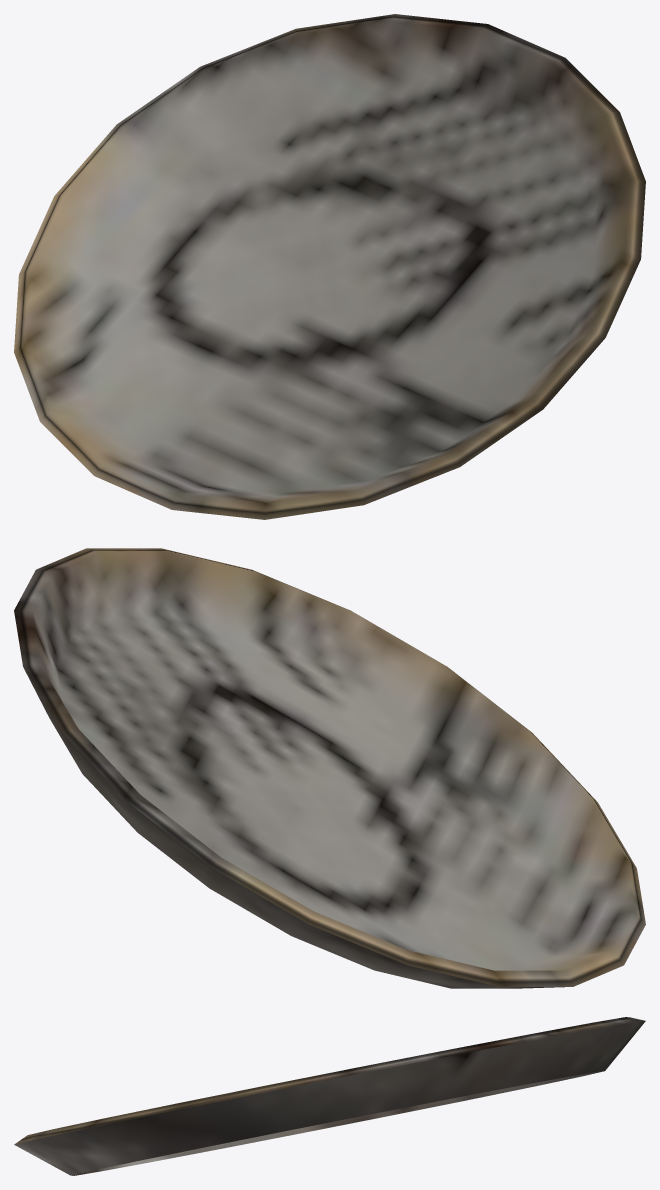
File: plate5.fbx
3 renders of one model, top to bottom at view 1: azimuth 30°, elevation 25°; view 2: azimuth 150°, elevation 25°; view 3: azimuth 270°, elevation 25°, orthographic. The views are drawn at different scales.
Parts seen in each view (by area): view 1: Strove.008; view 2: Strove.008; view 3: Strove.008.
Boxes of the visible parts, left/top/right/bottom form: Strove.008: left=14, top=14, right=645, bottom=519; Strove.008: left=14, top=548, right=645, bottom=988; Strove.008: left=14, top=1017, right=645, bottom=1175.
Size of the model in its own units: 12.99 by 7.01 by 14.07.
1 material, 1 textured.
